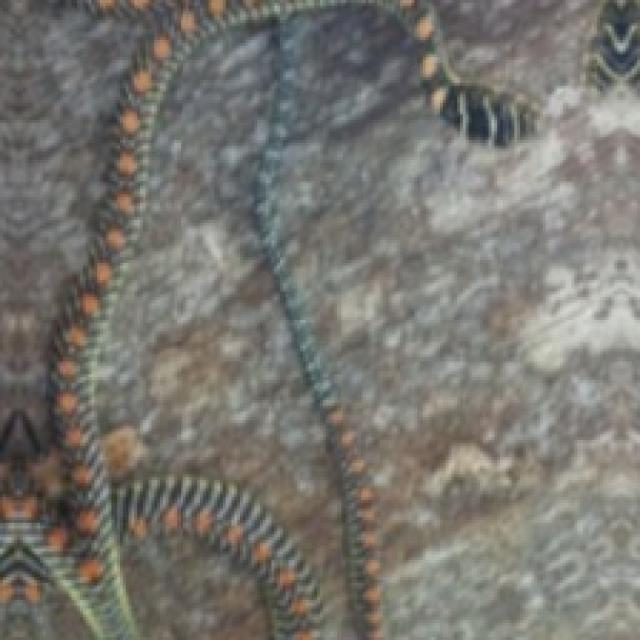paradise tree snake: (0, 0, 637, 637), (0, 0, 269, 637), (123, 491, 286, 637), (0, 523, 131, 637), (3, 440, 74, 529)
